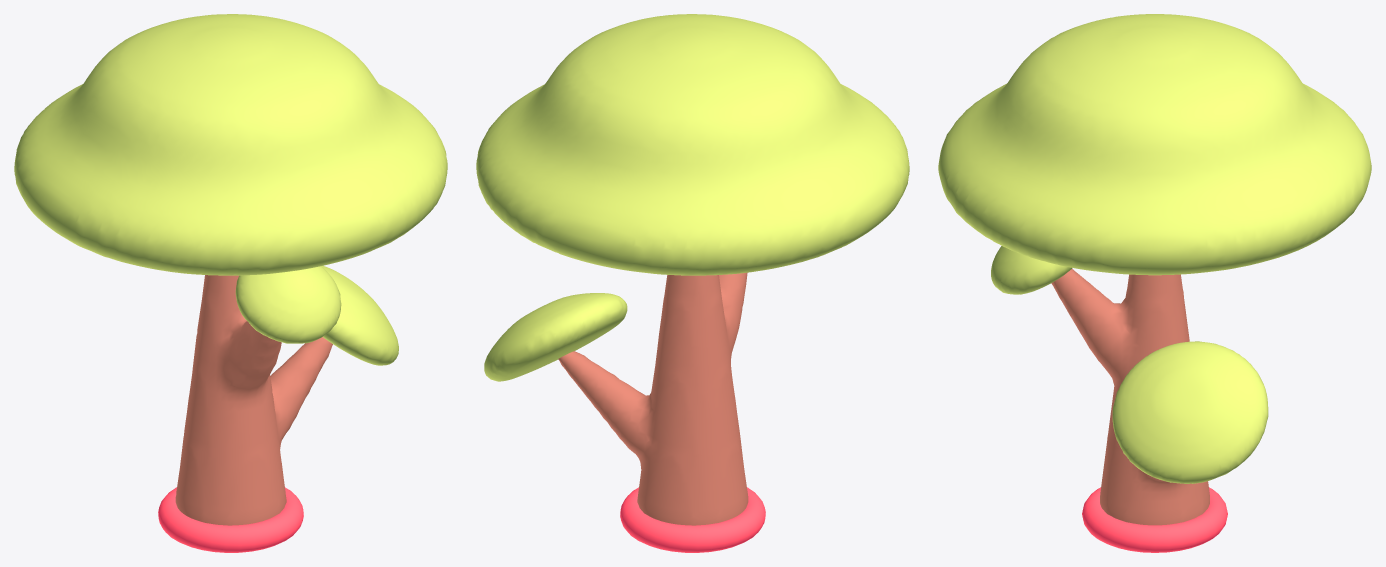
File: TreeB.fbx
The picture shows the model from 3 angles, left to right: view 1: azimuth 30°, elevation 25°; view 2: azimuth 150°, elevation 25°; view 3: azimuth 270°, elevation 25°; orthographic projection.
Parts seen in each view (by area): view 1: Volume_Mesher_6, Volume_Mesher, Polygon_2, Torus, Polygon; view 2: Volume_Mesher_6, Volume_Mesher, Polygon, Torus; view 3: Volume_Mesher_6, Polygon, Volume_Mesher, Torus, Polygon_2.
Part boxes in pixels (x1=…): Volume_Mesher_6: x1=14, y1=14, x2=447, y2=275; Volume_Mesher: x1=175, y1=275, x2=332, y2=525; Polygon_2: x1=235, y1=266, x2=341, y2=343; Torus: x1=158, y1=487, x2=303, y2=552; Polygon: x1=321, y1=265, x2=398, y2=365; Volume_Mesher_6: x1=476, y1=14, x2=909, y2=275; Volume_Mesher: x1=558, y1=272, x2=748, y2=525; Polygon: x1=484, y1=293, x2=627, y2=381; Torus: x1=620, y1=487, x2=765, y2=552; Volume_Mesher_6: x1=938, y1=14, x2=1371, y2=275; Polygon: x1=1112, y1=341, x2=1268, y2=483; Volume_Mesher: x1=1051, y1=269, x2=1209, y2=525; Torus: x1=1082, y1=487, x2=1227, y2=552; Polygon_2: x1=991, y1=246, x2=1072, y2=294.
Size of the model in its own units: 4037 by 5174 by 4037.
